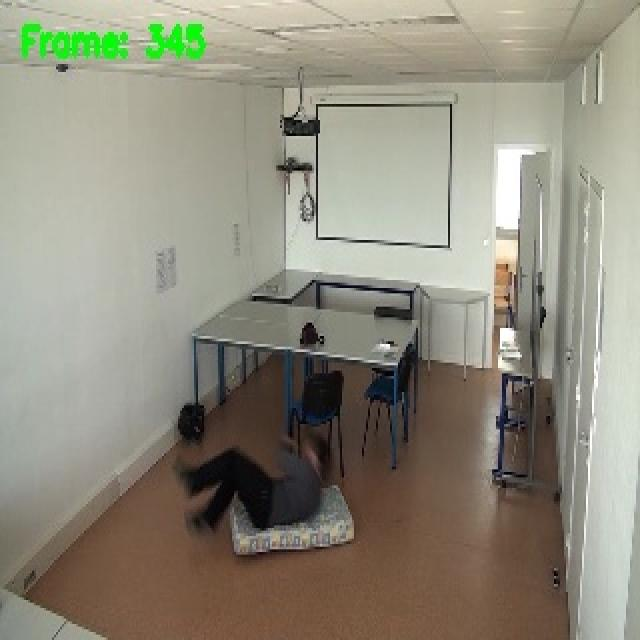Fall-Detected: (173, 429, 339, 534)
